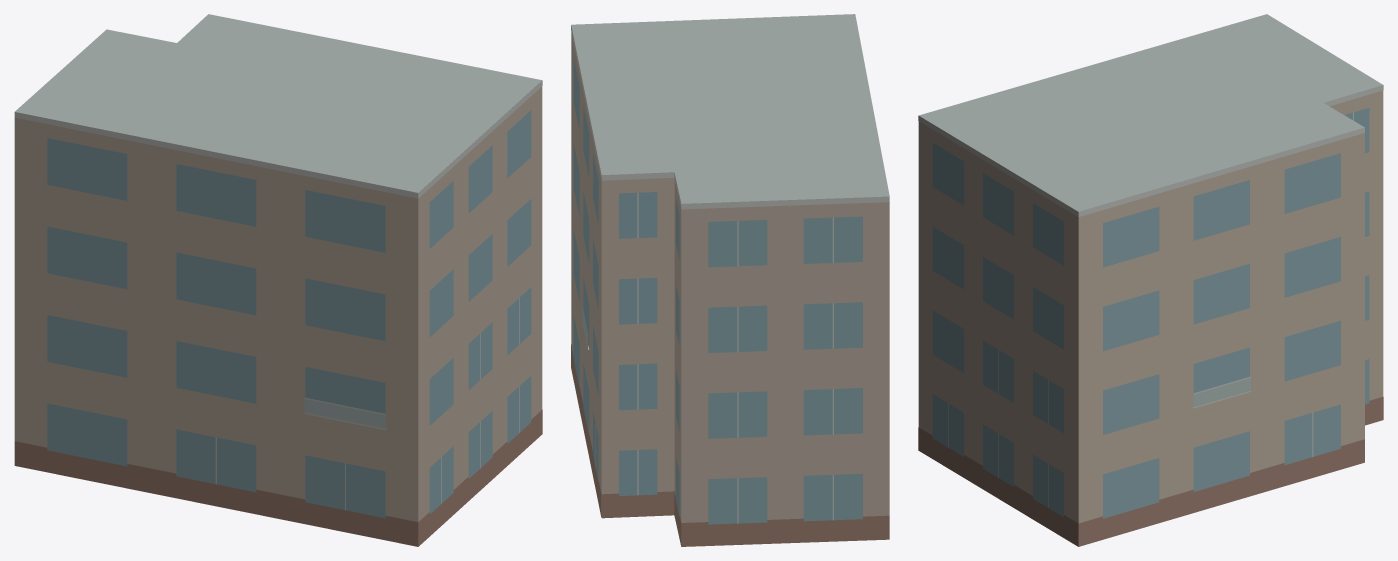
Rendered from survey-upis-32511410.glb.
3 views of the same model, side by side, from view 1: azimuth 30°, elevation 25°; view 2: azimuth 150°, elevation 25°; view 3: azimuth 270°, elevation 25° (orthographic). The views are drawn at different scales.
Parts seen in each view (by area): view 1: survey-upis-32511410.tmp; view 2: survey-upis-32511410.tmp; view 3: survey-upis-32511410.tmp.
Boxes of the visible parts, bbox=[...] form: survey-upis-32511410.tmp: bbox=[14, 14, 542, 546]; survey-upis-32511410.tmp: bbox=[571, 14, 889, 546]; survey-upis-32511410.tmp: bbox=[918, 14, 1383, 546].
Size of the model in its own units: 19.2 by 15.15 by 19.06.
